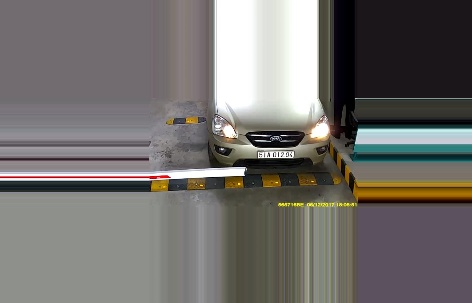plate: (256, 148, 296, 159)
